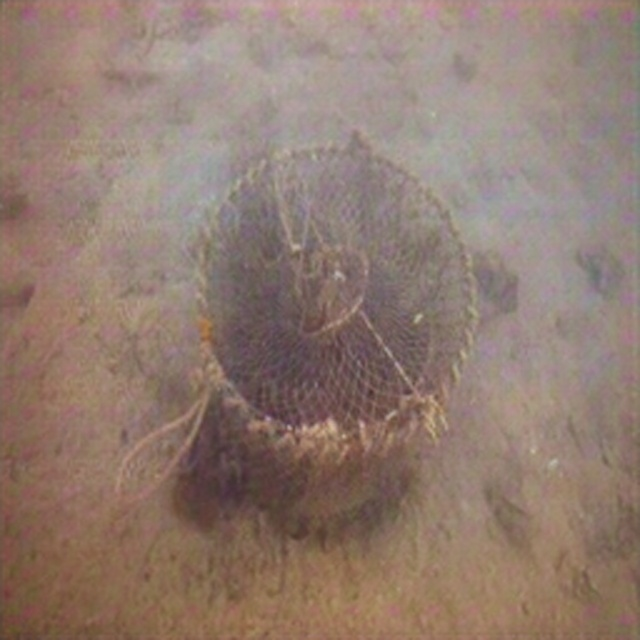mine: (192, 141, 476, 530)
